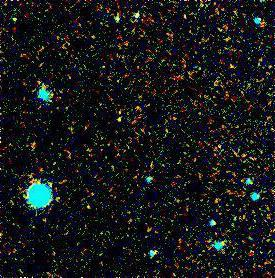star: (103, 105, 133, 135)
